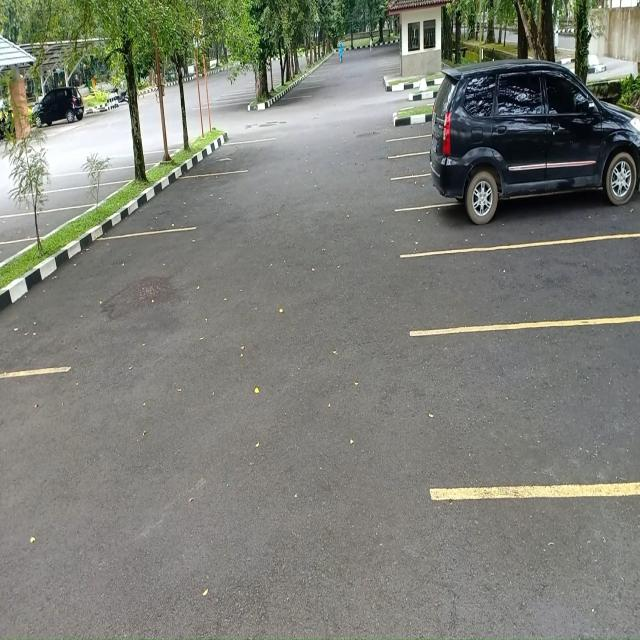empty: (417, 320, 640, 492), (56, 228, 190, 375), (417, 241, 640, 326), (147, 170, 246, 232), (194, 140, 270, 174), (0, 210, 72, 242), (40, 185, 111, 212), (67, 167, 137, 187)
occupied: (432, 125, 640, 245)
